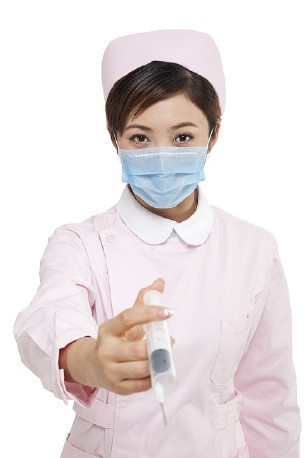Mask: (116, 115, 210, 209)
